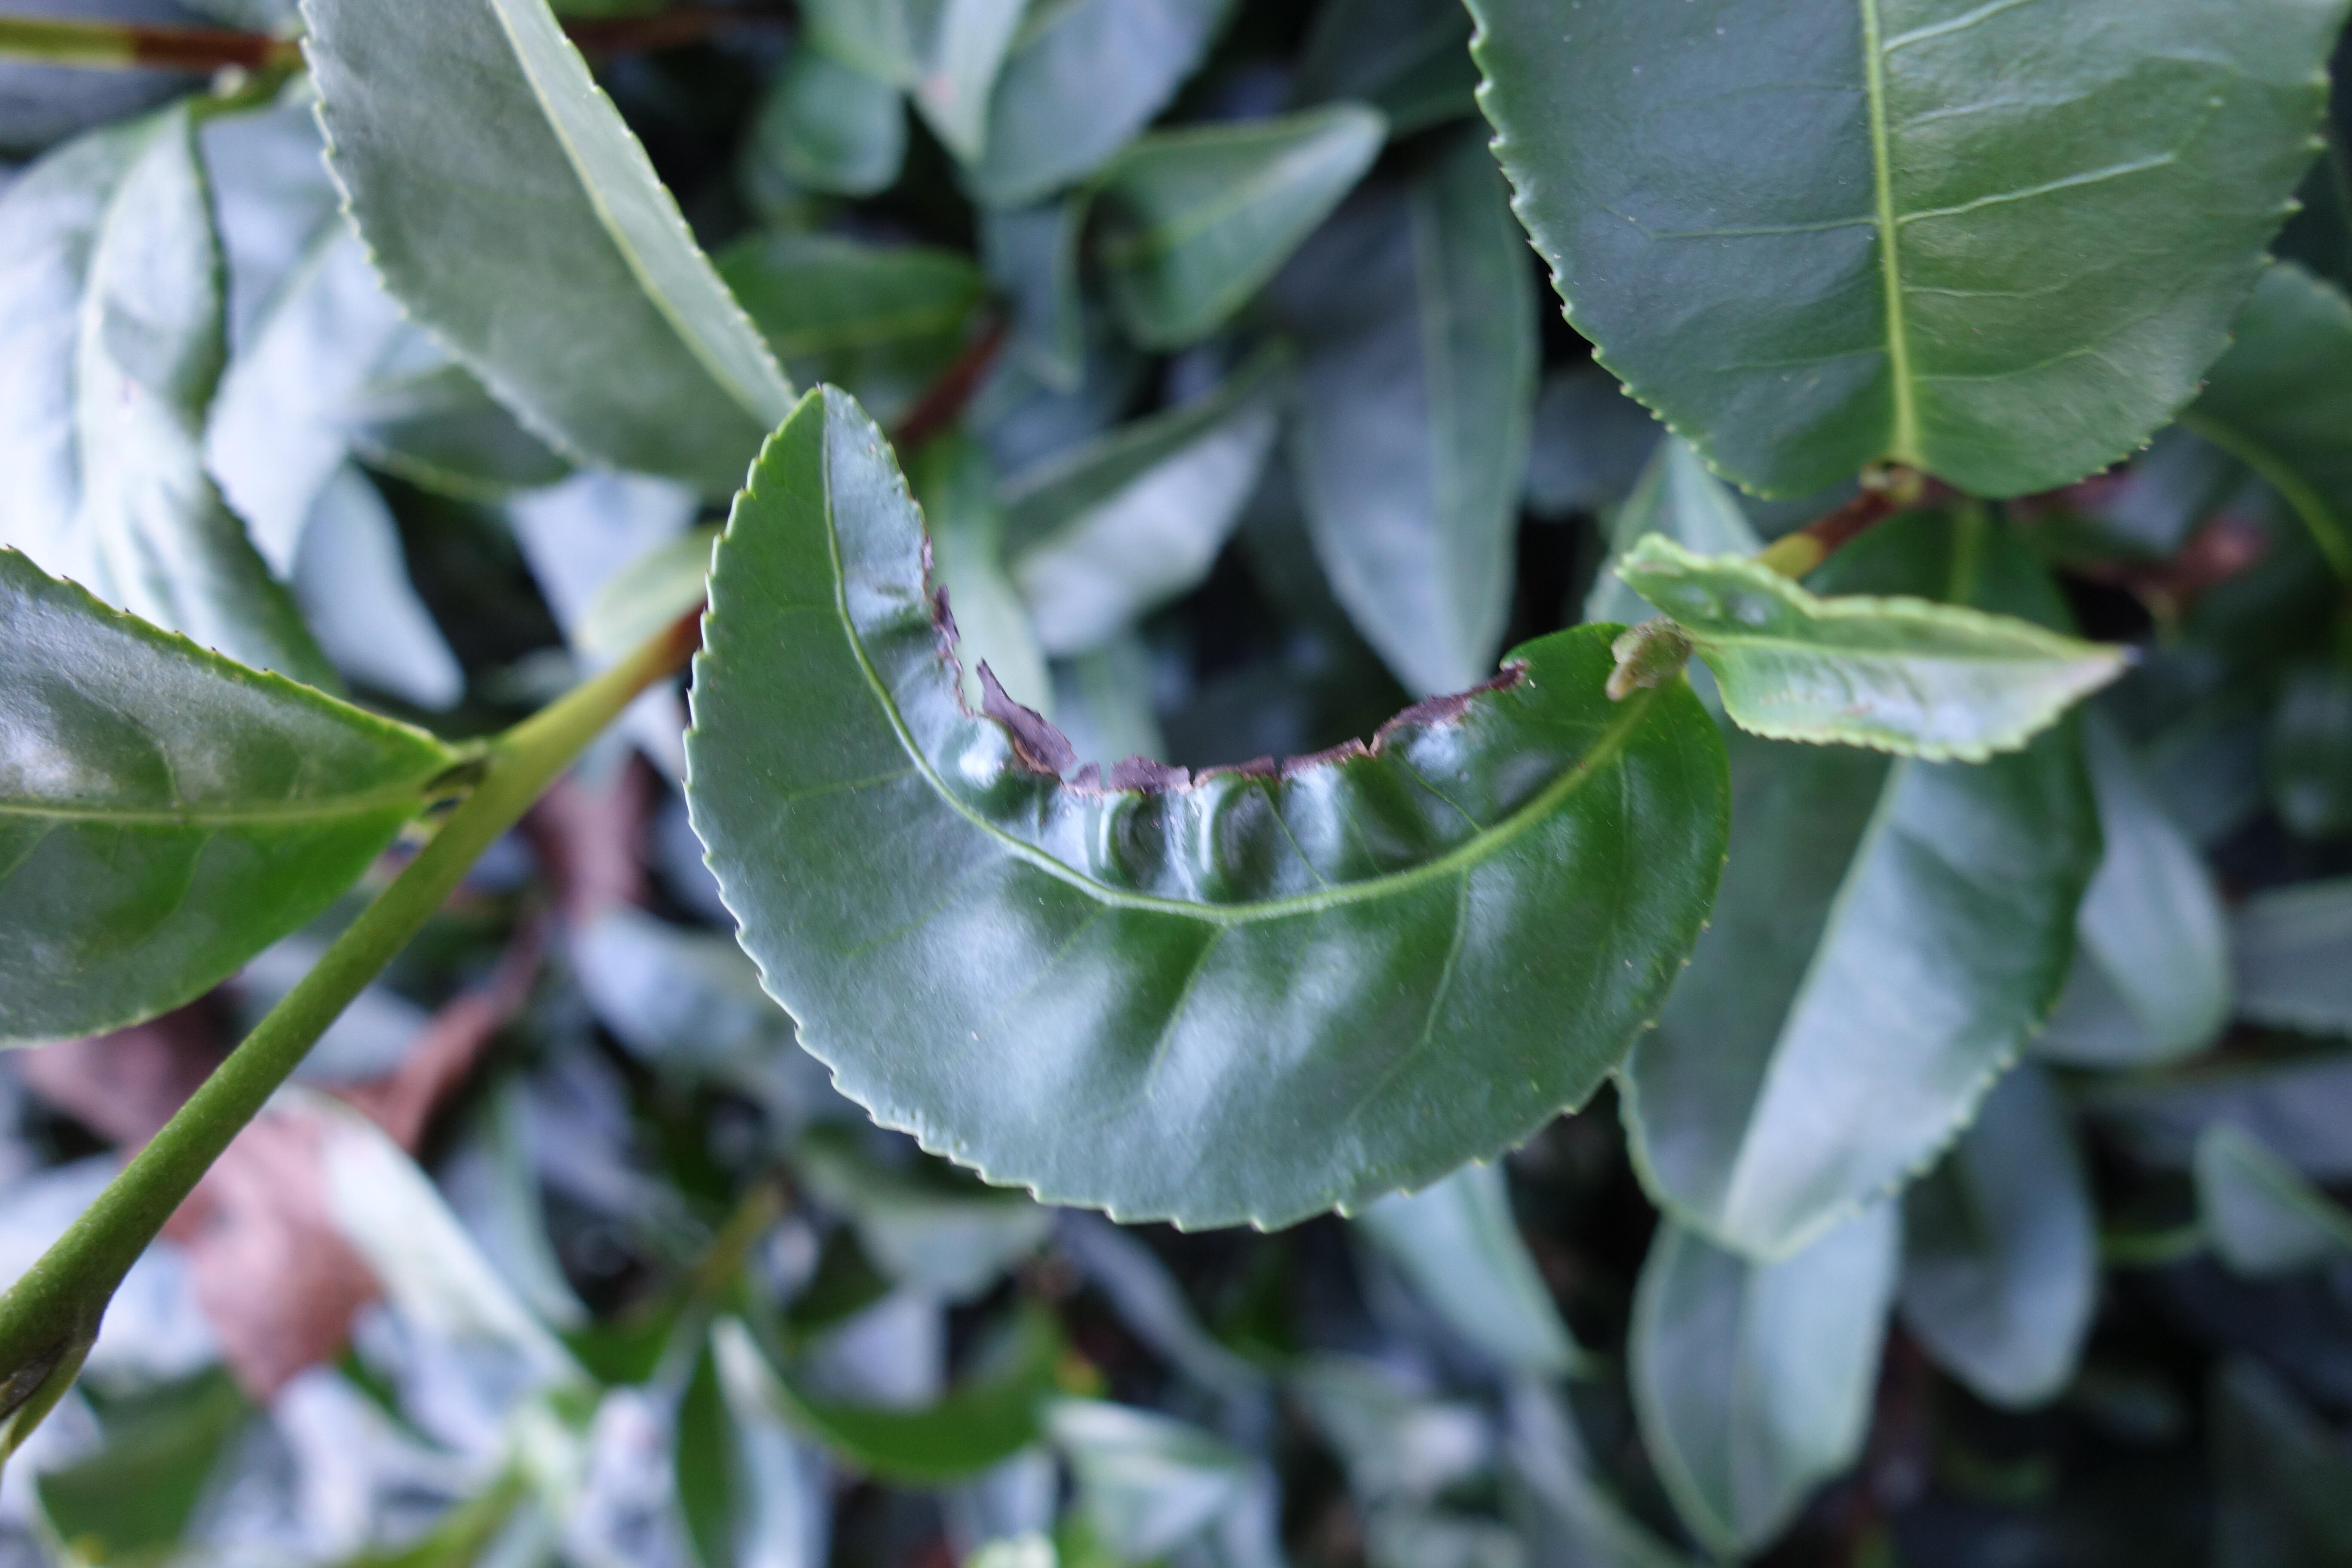chihuo_high: (674, 383, 1729, 1235)
